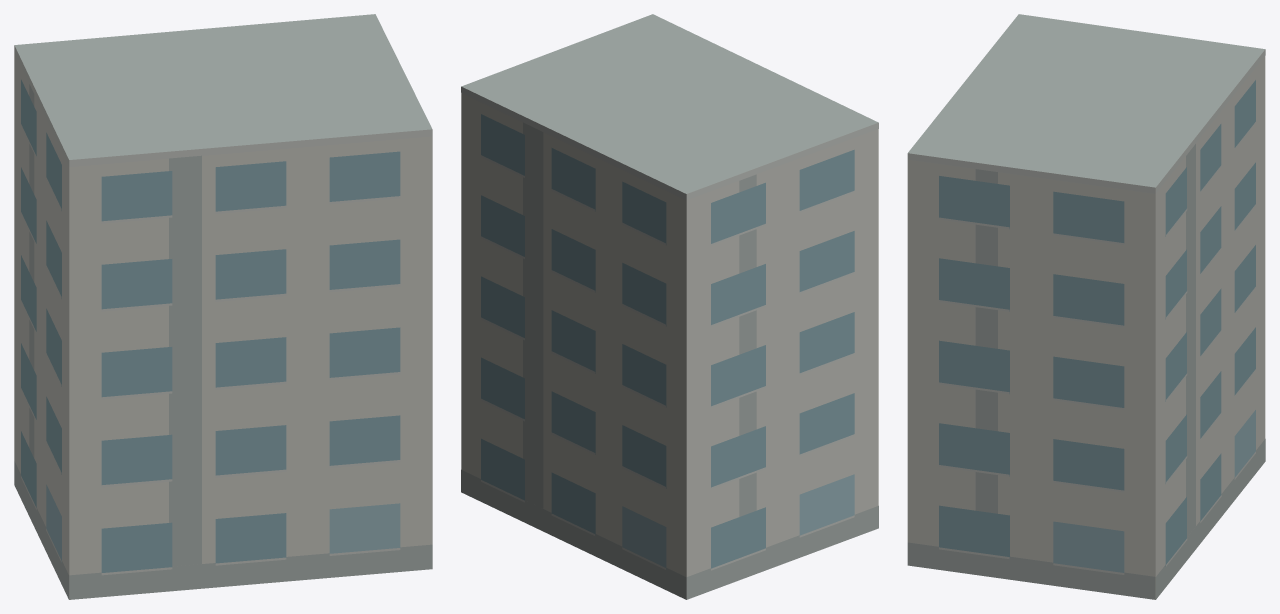
The model's file is survey-upis-32890585.glb.
The picture shows the model from 3 angles, left to right: view 1: azimuth 30°, elevation 25°; view 2: azimuth 150°, elevation 25°; view 3: azimuth 270°, elevation 25°; orthographic projection. The views are drawn at different scales.
Visible parts, largest first — view 1: survey-upis-32890585.tmp; view 2: survey-upis-32890585.tmp; view 3: survey-upis-32890585.tmp.
Boxes of the visible parts, x1=… form: survey-upis-32890585.tmp: x1=14, y1=14, x2=432, y2=599; survey-upis-32890585.tmp: x1=461, y1=14, x2=878, y2=599; survey-upis-32890585.tmp: x1=907, y1=14, x2=1265, y2=599.
Size of the model in its own units: 14.1 by 15.6 by 12.28.
